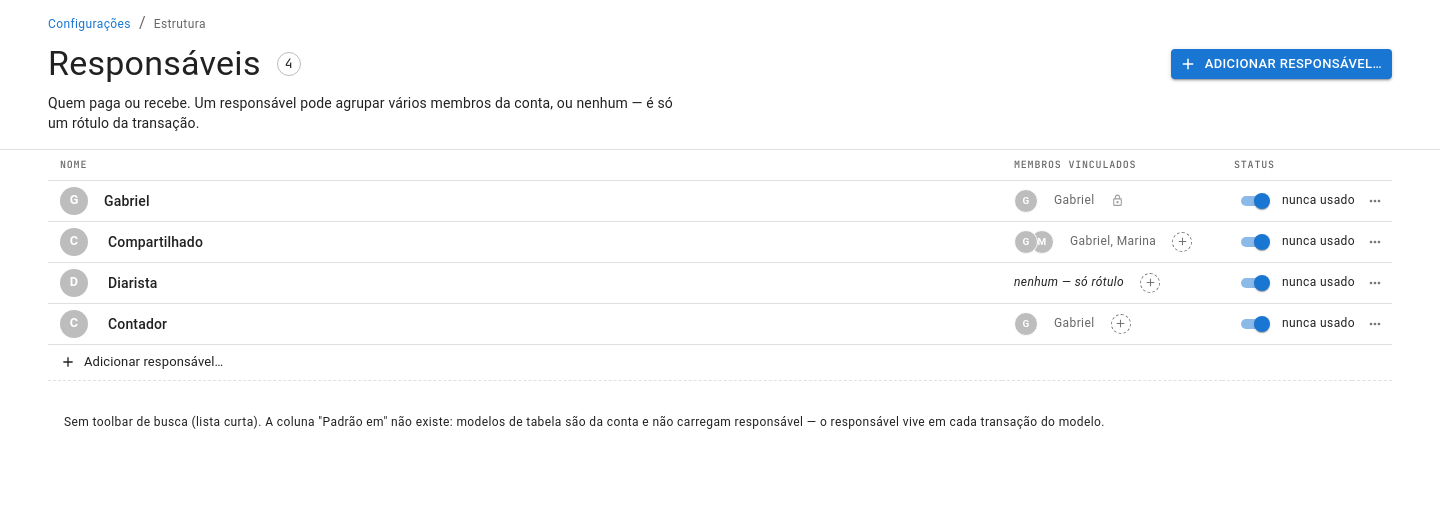
Scenario: ResponsiblePartiesManager (revisão 'Tudo é responsável') › a linha-fantasma cria sempre um responsável comum, sem membro (D4 — 'nomear alguém externo')
The image size is (1440, 519).
Click the button "Adicionar responsável…" in the row of "Responsáveis". click: (1281, 64)
box: 1171,49 -> 1392,79
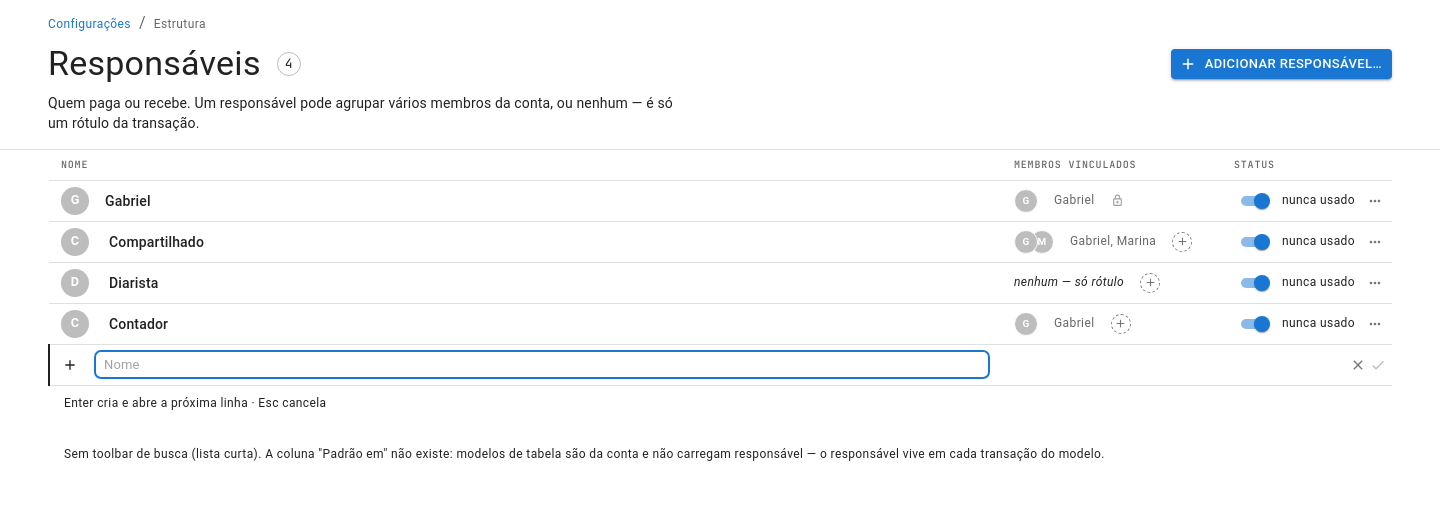
Type "Diarista Ana" into the field with placeholder "Nome". click: (542, 365)
box: 94,355 -> 990,374
Then press Enter
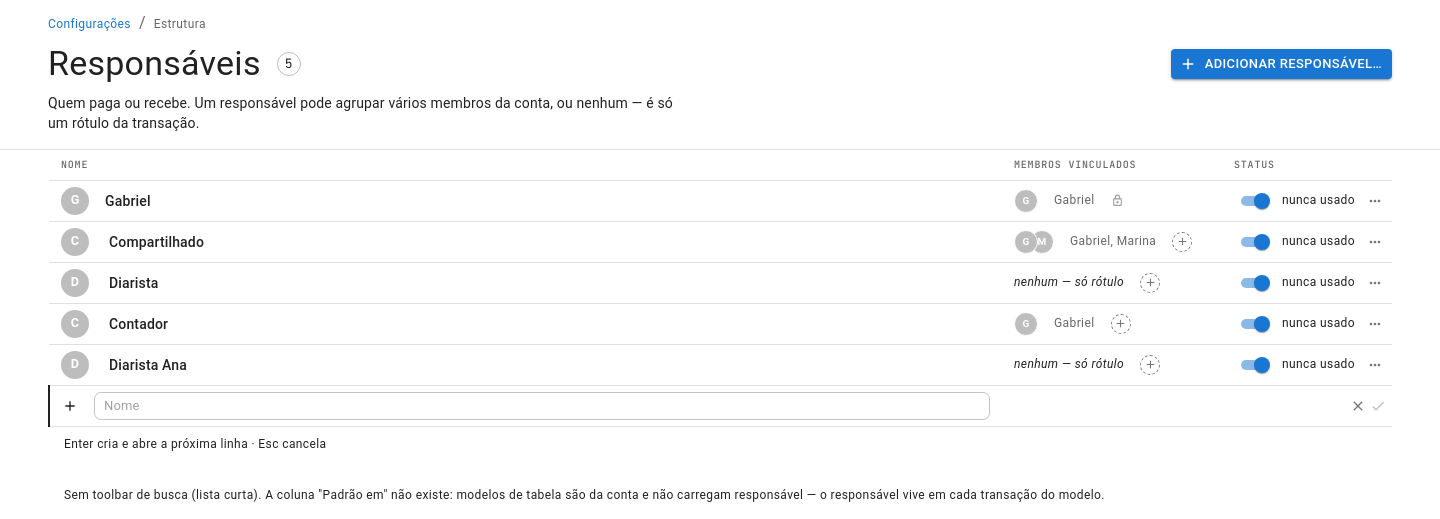
Expected: the text "Diarista Ana" is shown, 109,354 -> 187,374
